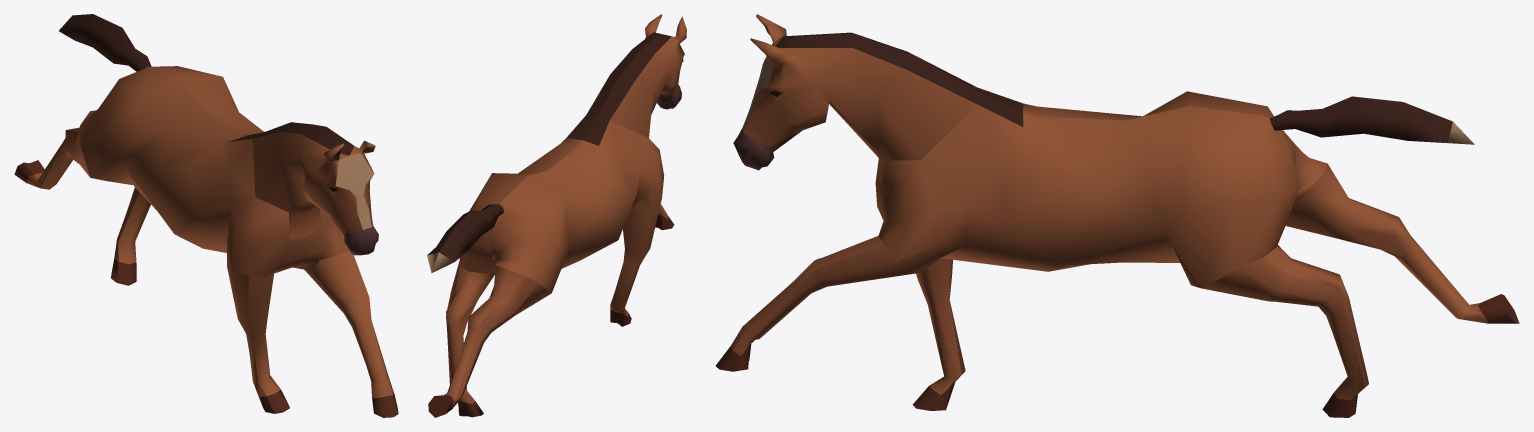
File: Horse_Running.glb
The picture shows the model from 3 angles, left to right: view 1: azimuth 30°, elevation 25°; view 2: azimuth 150°, elevation 25°; view 3: azimuth 270°, elevation 25°; orthographic projection. The views are drawn at different scales.
Parts seen in each view (by area): view 1: Mesh_0; view 2: Mesh_0; view 3: Mesh_0.
Part boxes in pixels (left/top/right/bottom): Mesh_0: left=14, top=14, right=398, bottom=417; Mesh_0: left=427, top=14, right=686, bottom=417; Mesh_0: left=715, top=14, right=1519, bottom=417.
Bounding box in the file's own units: 17.68 × 41.83 × 77.66.
